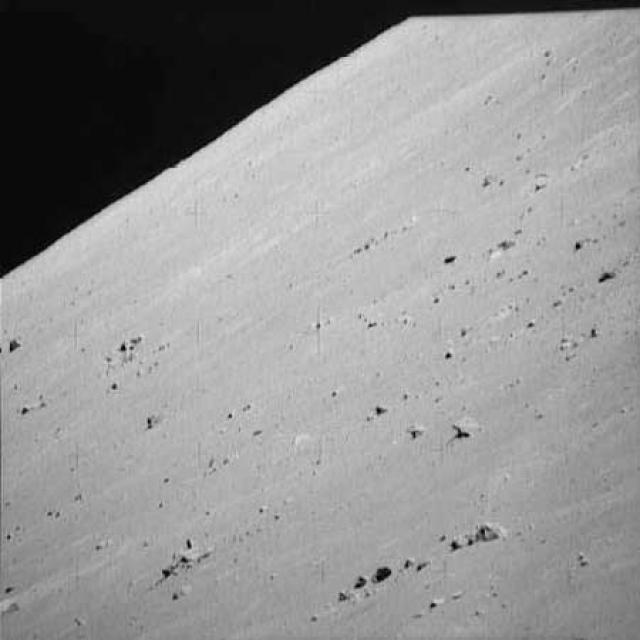rock: (391, 544, 442, 578), (444, 409, 489, 441), (472, 511, 508, 545), (167, 544, 218, 568), (401, 415, 431, 443), (484, 237, 516, 261), (591, 261, 619, 288), (142, 405, 169, 432), (446, 532, 482, 552), (2, 333, 24, 355)
